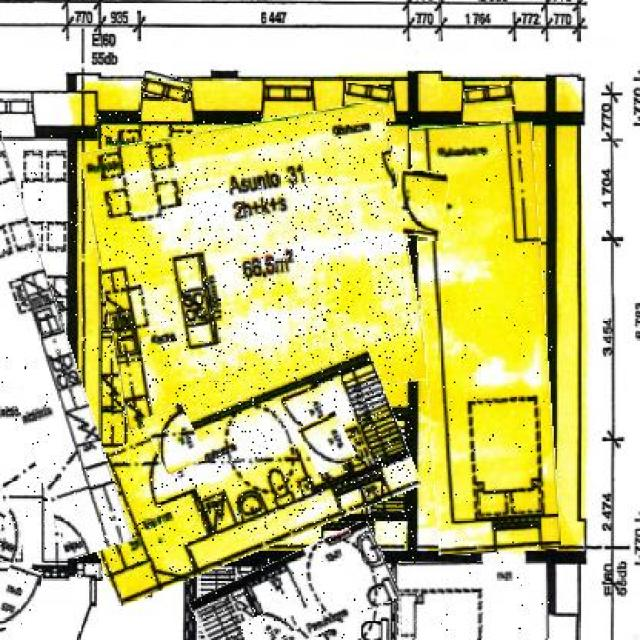door: (394, 172, 446, 240), (149, 406, 200, 472), (302, 414, 352, 471), (0, 564, 38, 630), (241, 607, 296, 640), (0, 506, 29, 563)
window: (142, 74, 190, 101), (464, 86, 516, 109), (346, 86, 391, 108), (266, 83, 312, 103)
zone: (91, 112, 418, 418), (72, 376, 414, 578), (417, 123, 554, 554), (0, 131, 100, 558), (192, 538, 396, 640), (397, 560, 551, 640)
